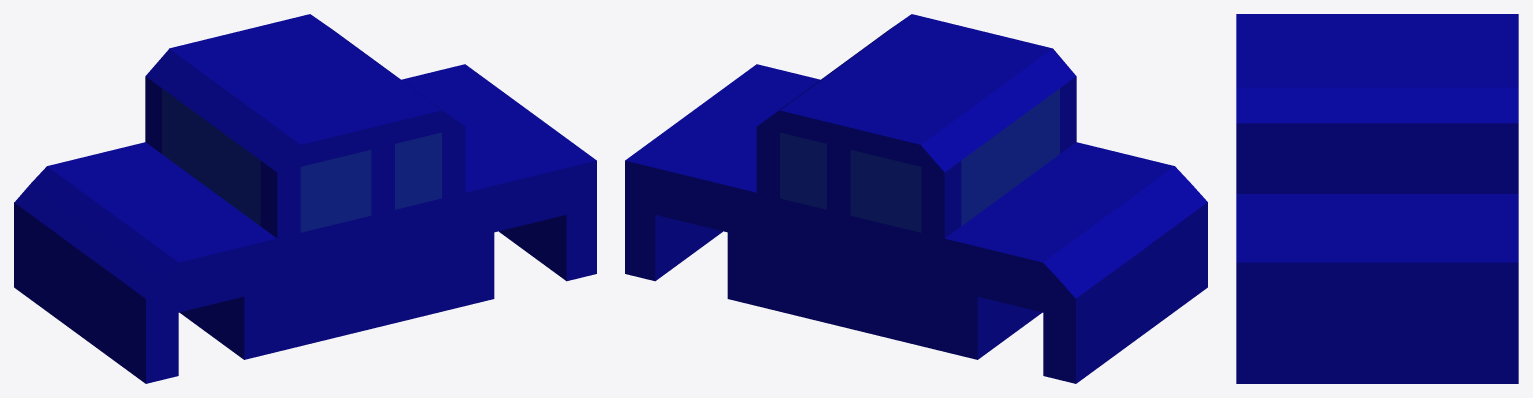
File: Body2.obj
3 views of the same model, side by side, from view 1: azimuth 30°, elevation 25°; view 2: azimuth 150°, elevation 25°; view 3: azimuth 270°, elevation 25° (orthographic). The views are drawn at different scales.
Parts seen in each view (by area): view 1: Cube.009_Cube.010; view 2: Cube.009_Cube.010; view 3: Cube.009_Cube.010.
Part boxes in pixels (<box>): Cube.009_Cube.010: <box>14,14,596,383</box>; Cube.009_Cube.010: <box>625,14,1207,383</box>; Cube.009_Cube.010: <box>1236,14,1518,383</box>.
Size of the model in its own units: 3.95 by 1.69 by 2.
